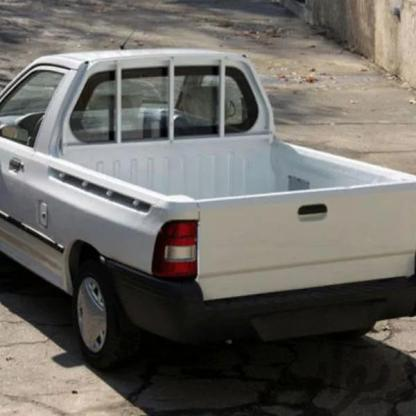Car: (0, 38, 416, 362)
